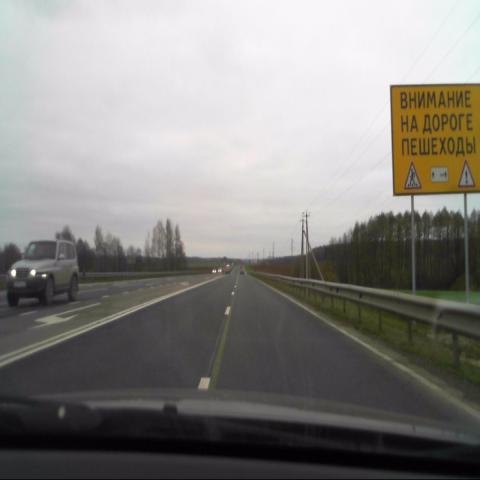1_33: (458, 160, 476, 187)
